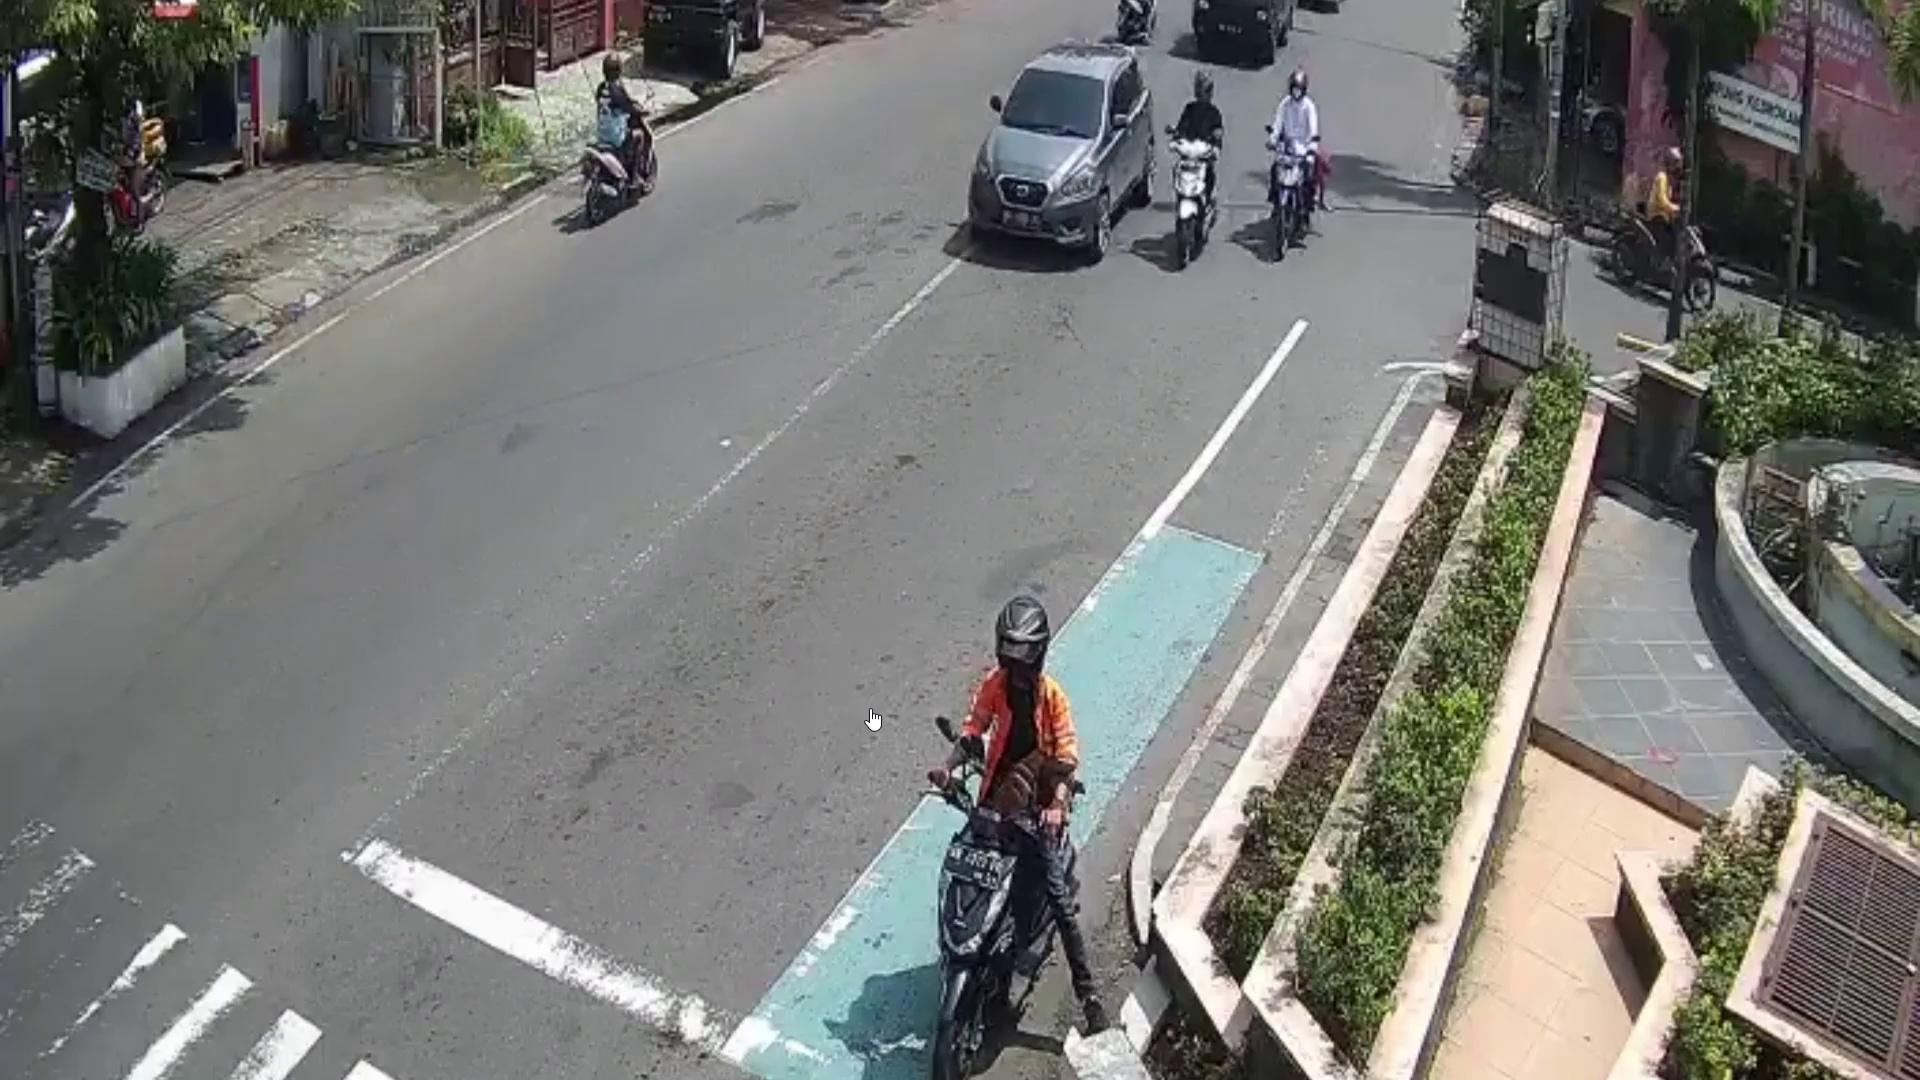car: (965, 38, 1155, 258)
motorbike: (934, 756, 1079, 1080), (1609, 198, 1720, 318), (580, 94, 662, 220), (1172, 133, 1218, 266), (1271, 140, 1320, 253)
